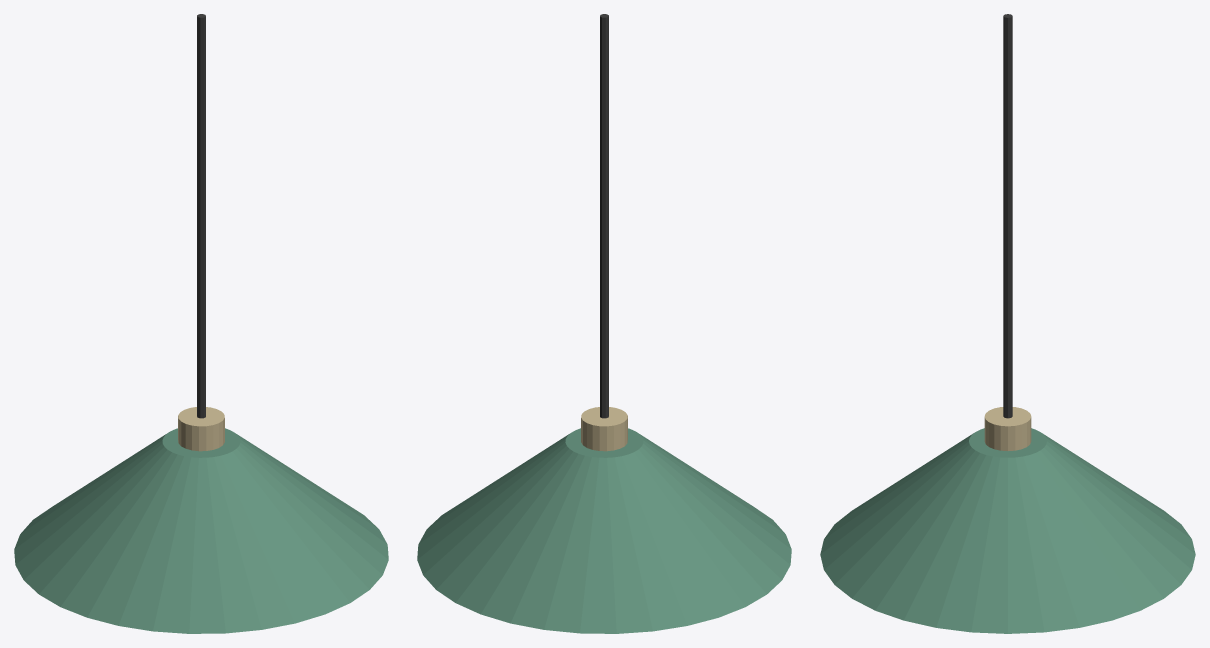
The model's file is pendant_lamp.glb.
3 views of the same model, side by side, from view 1: azimuth 30°, elevation 25°; view 2: azimuth 150°, elevation 25°; view 3: azimuth 270°, elevation 25° (orthographic).
Parts seen in each view (by area): view 1: PendantLamp; view 2: PendantLamp; view 3: PendantLamp.
Boxes of the visible parts, x1,y1,x2,y2 form: PendantLamp: (14,14,388,633); PendantLamp: (417,14,791,633); PendantLamp: (820,14,1195,633).
Size of the model in its own units: 0.48 by 0.8 by 0.48.
